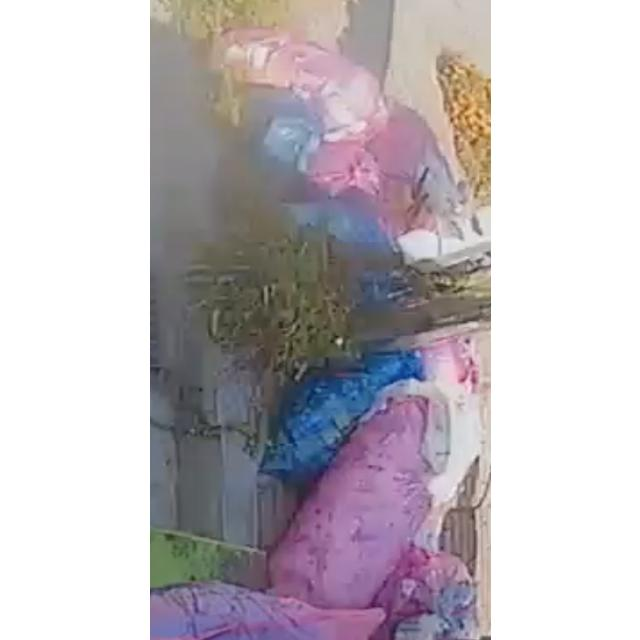other_trashbag: (272, 396, 428, 608), (260, 351, 420, 479), (220, 29, 380, 142), (149, 581, 384, 640), (365, 101, 455, 237), (372, 548, 475, 639), (248, 86, 320, 199), (282, 190, 388, 242), (298, 141, 379, 201), (422, 342, 478, 393)
